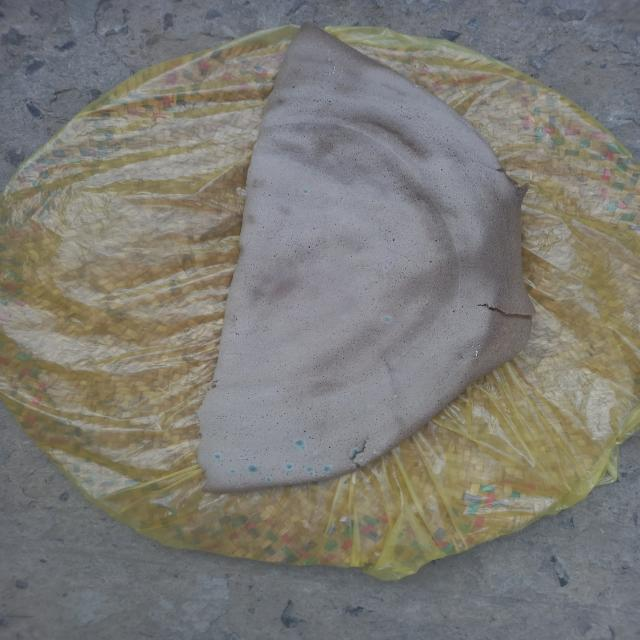injera_mold: (308, 474, 326, 481), (412, 83, 422, 92), (360, 458, 370, 467), (342, 464, 357, 470), (247, 464, 258, 472), (350, 449, 360, 457), (382, 316, 392, 323), (322, 465, 332, 472), (373, 450, 382, 457), (285, 463, 294, 470), (295, 440, 304, 446), (302, 188, 309, 194), (306, 466, 313, 472), (214, 454, 221, 459), (230, 469, 236, 473), (266, 478, 271, 482), (239, 454, 244, 458), (301, 446, 305, 450), (333, 66, 336, 71), (476, 351, 478, 358), (314, 452, 318, 454), (324, 73, 327, 75), (329, 73, 331, 76), (332, 72, 335, 74), (236, 486, 239, 488), (342, 70, 344, 72), (473, 357, 475, 359), (238, 483, 240, 485), (241, 486, 243, 488), (478, 345, 481, 346), (342, 66, 343, 68), (463, 356, 465, 357), (462, 348, 464, 349), (472, 346, 474, 347)
